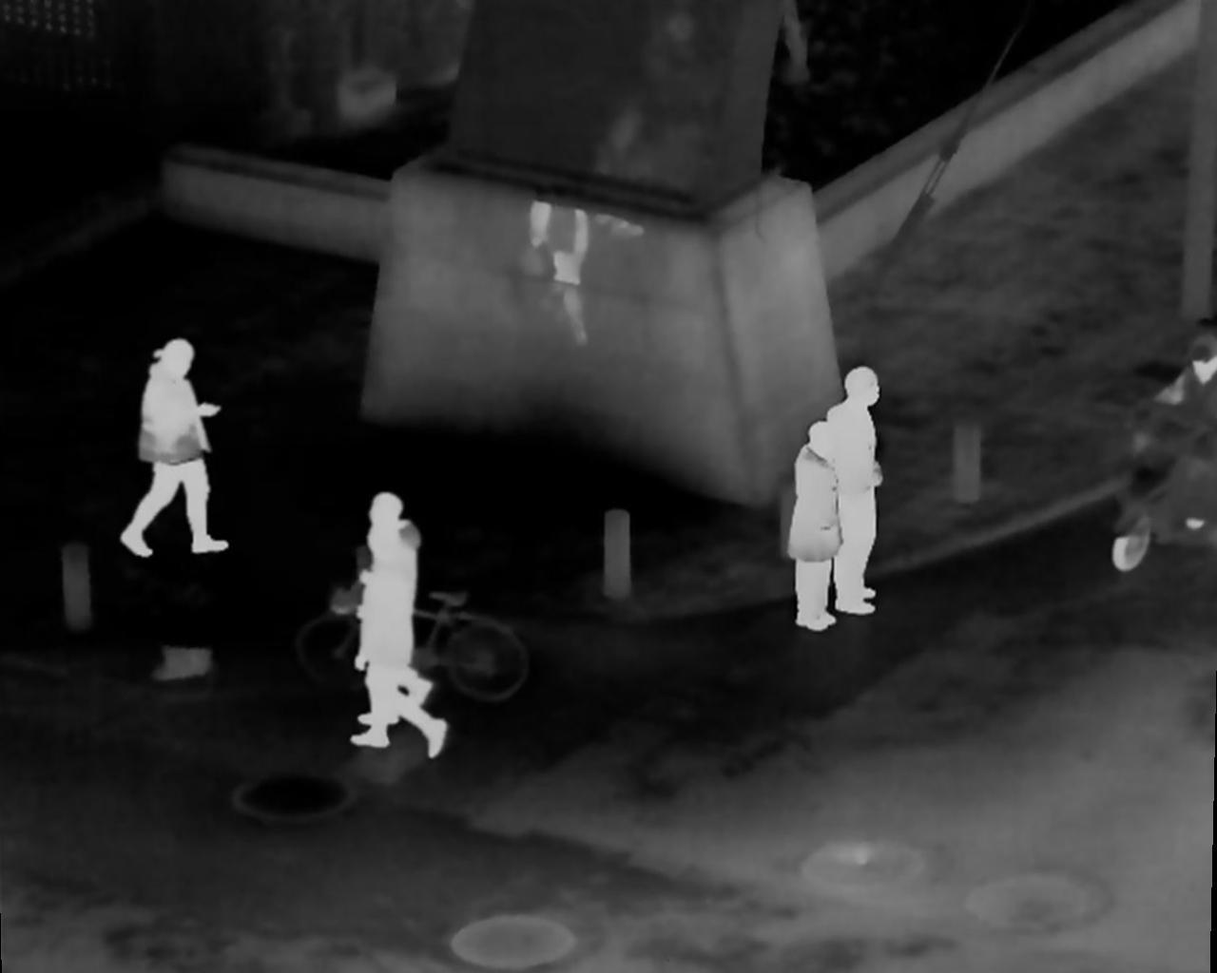person: (119, 337, 225, 569), (351, 522, 448, 759), (357, 491, 435, 722), (830, 367, 882, 617), (1160, 335, 1217, 530), (790, 421, 841, 634)
